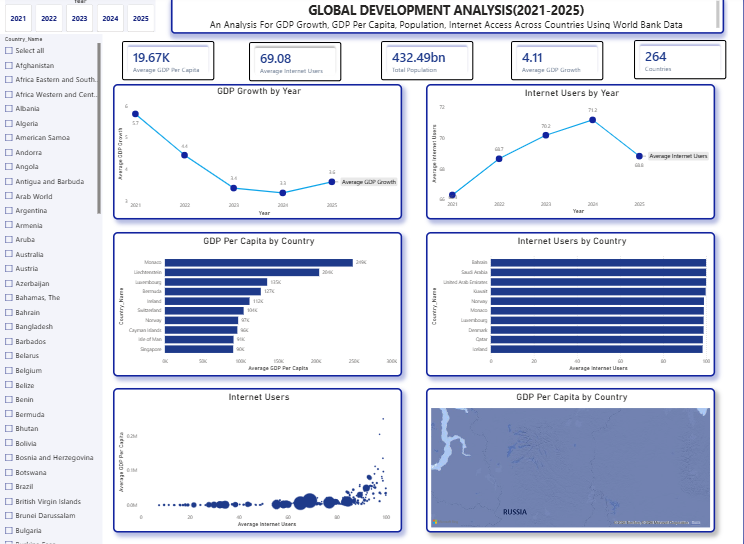

Layout of this report page (visuals, bound fields, positions):
{"tool":"powerbi","page":{"name":"Page 1","canvas":[1895,1400],"ordinal":0},"visuals":[{"type":"cardVisual","fields":{"Data":["WDICSV.Average GDP Growth"]},"box":[1302.2,115.2,235,100],"z":0},{"type":"cardVisual","fields":{"Data":["WDICSV.Average GDP Per Capita"]},"box":[313,115.2,235,100],"z":1000},{"type":"cardVisual","fields":{"Data":["WDICSV.Average Internet Users"]},"box":[637,117.4,235,100],"z":2000},{"type":"cardVisual","fields":{"Data":["WDICSV.Total Population"]},"box":[971.7,115.2,235,100],"z":3000},{"type":"cardVisual","fields":{"Data":["WDICSV.Countries"]},"box":[1617.4,113,235,100],"z":4000},{"type":"slicer","fields":{"Values":["WDICSV.Country_Name"]},"box":[2.2,95.7,260.9,1302.2],"z":5000},{"type":"advancedSlicerVisual","fields":{"Values":["WDICSV.Year"]},"box":[15.2,2.2,383,89],"z":6000},{"type":"lineChart","title":"GDP Growth by Year","fields":{"Category":["WDICSV.Year"],"Y":["WDICSV.Average GDP Growth"]},"box":[289,224,736,345],"z":7000},{"type":"lineChart","title":"Internet Users by Year","fields":{"Category":["WDICSV.Year"],"Y":["WDICSV.Average Internet Users"]},"box":[1088,224,736,345],"z":8000},{"type":"clusteredBarChart","title":"GDP Per Capita by Country","fields":{"Category":["WDICSV.Country_Name"],"Y":["WDICSV.Average GDP Per Capita"]},"box":[289,601,736,368],"z":9000},{"type":"clusteredBarChart","title":"Internet Users by Country","fields":{"Category":["WDICSV.Country_Name"],"Y":["WDICSV.Average Internet Users"]},"box":[1088,601,736,368],"z":10000},{"type":"scatterChart","title":"Internet Users","fields":{"X":["WDICSV.Average Internet Users"],"Y":["WDICSV.Average GDP Per Capita"],"Category":["WDICSV.Country_Name"],"Size":["WDICSV.Total Population"]},"box":[289,997,736,368],"z":11000},{"type":"filledMap","title":"GDP Per Capita by Country","fields":{"Category":["WDICSV.Country_Name"]},"box":[1088,997,736,368],"z":12000},{"type":"textbox","box":[439,0,1408,96],"z":13000}]}

Visuals, with their boxes in screenshot pixels (x1, y1, x2, y2):
cardVisual - WDICSV.Average GDP Growth: 509 44 599 83
cardVisual - WDICSV.Average GDP Per Capita: 130 44 220 83
cardVisual - WDICSV.Average Internet Users: 254 45 344 83
cardVisual - WDICSV.Total Population: 382 44 472 83
cardVisual - WDICSV.Countries: 630 43 720 82
slicer - WDICSV.Country_Name: 11 37 111 536
advancedSlicerVisual - WDICSV.Year: 16 1 162 35
"GDP Growth by Year" lineChart: 121 86 403 218
"Internet Users by Year" lineChart: 427 86 709 218
"GDP Per Capita by Country" clusteredBarChart: 121 230 403 372
"Internet Users by Country" clusteredBarChart: 427 230 709 372
"Internet Users" scatterChart: 121 382 403 523
"GDP Per Capita by Country" filledMap: 427 382 709 523
textbox: 178 0 718 37
